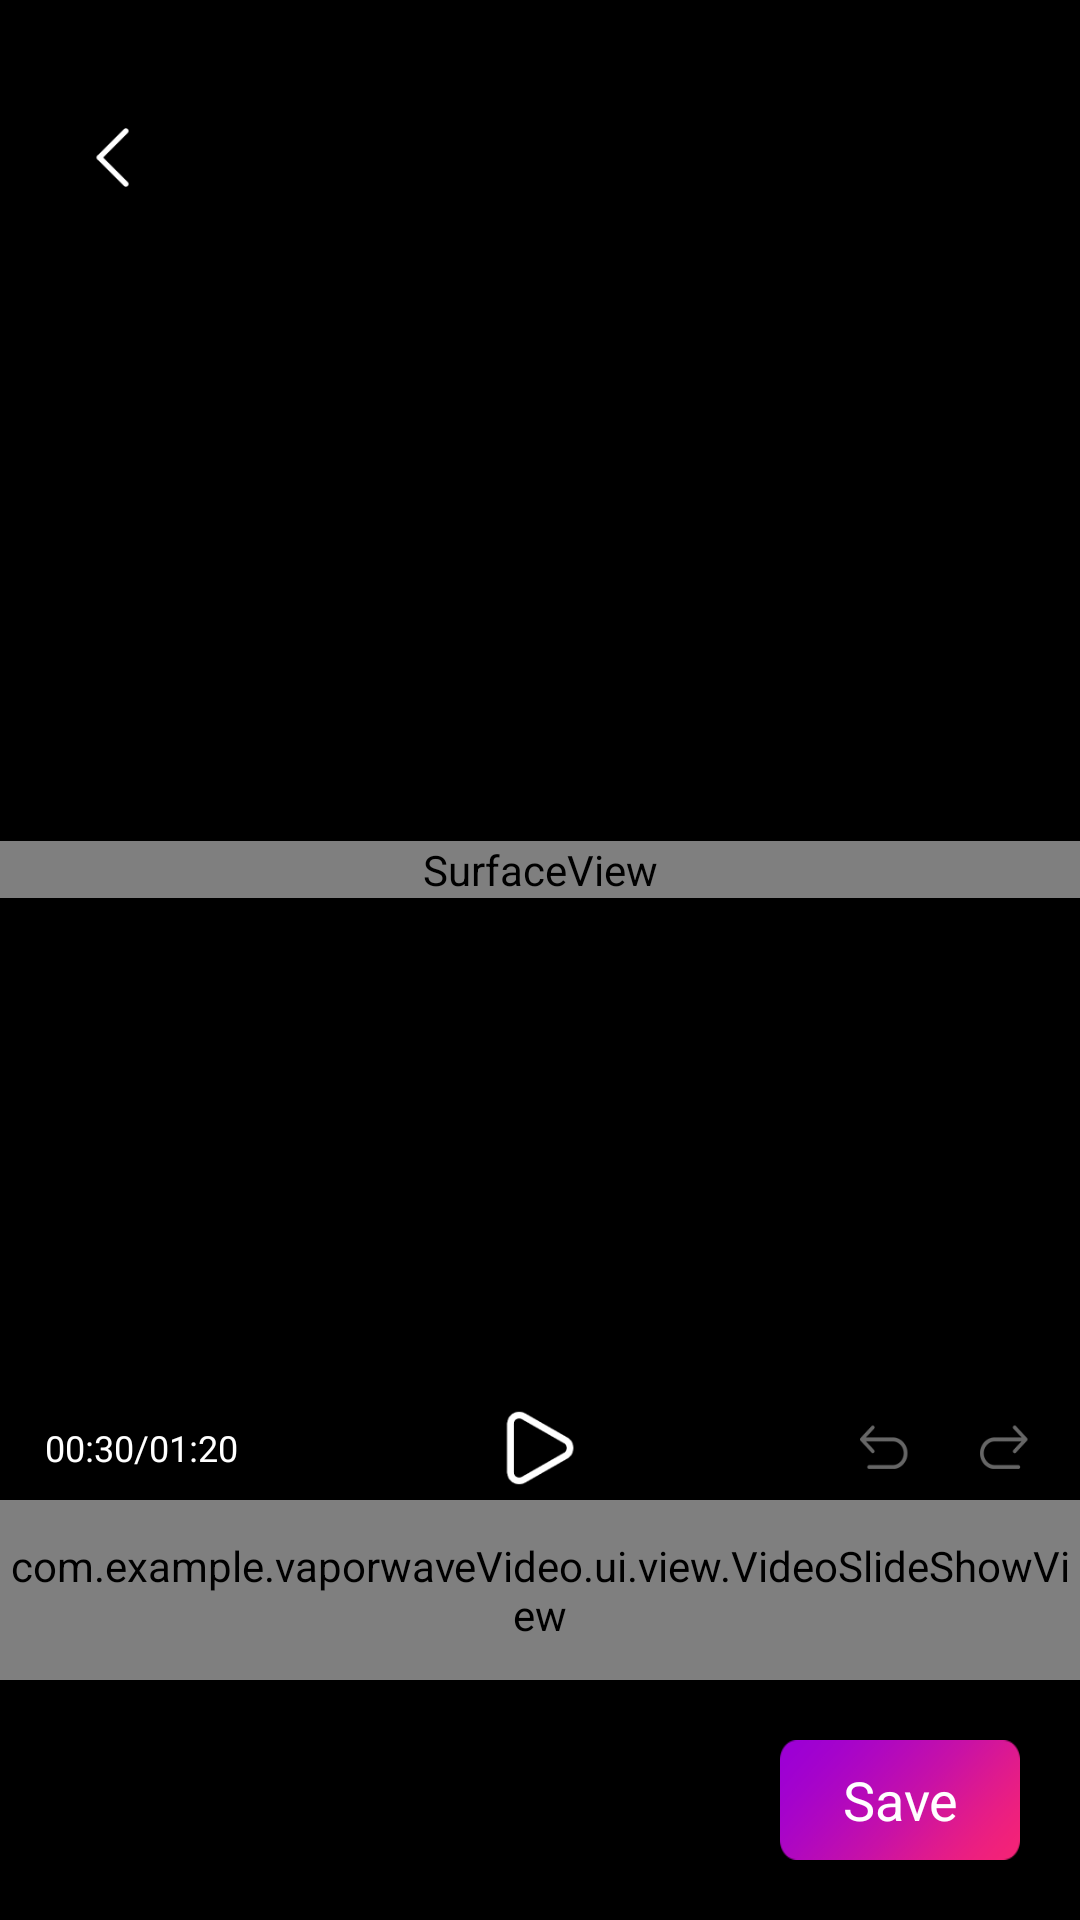

Point at icon controls on the screen. Image size 1080×1920, points as [x,y].
back: [112,157]
play: [540,1448]
undo left disable: [884,1447]
undo right disable: [1004,1447]
